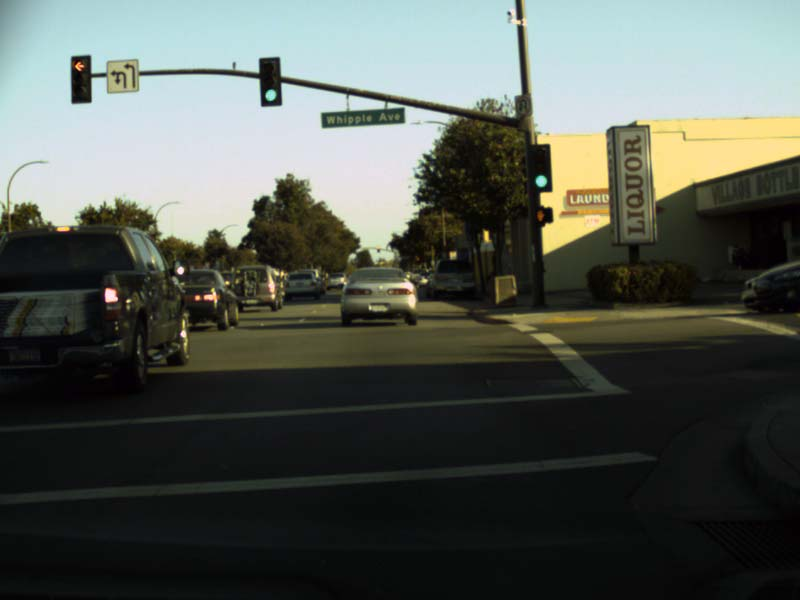Green: (260, 57, 278, 104), (533, 149, 547, 190)
Red: (73, 58, 88, 103)
